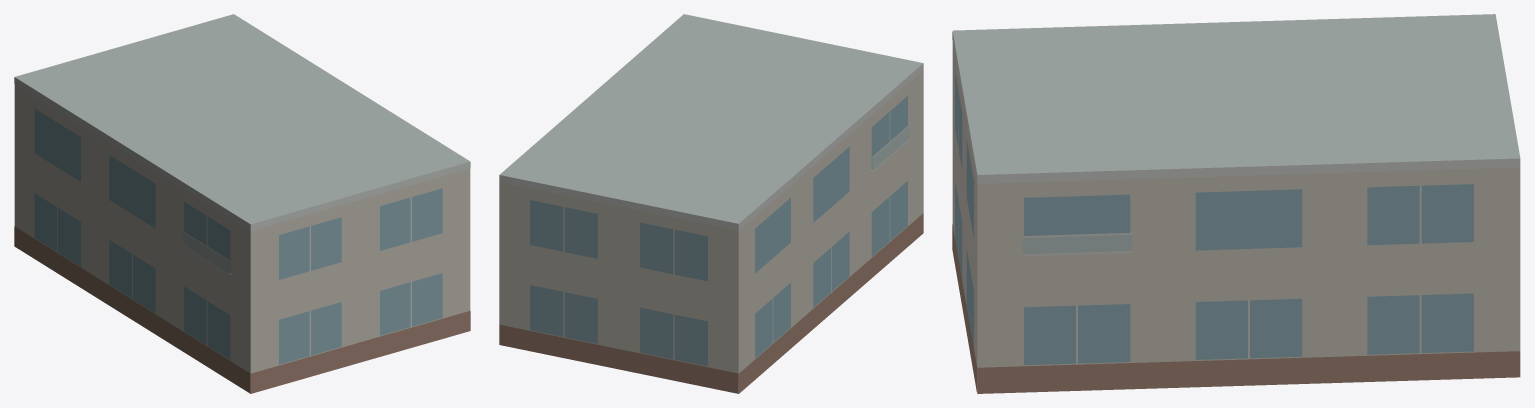
File: survey-upis-32701310.glb
3 views of the same model, side by side, from view 1: azimuth 30°, elevation 25°; view 2: azimuth 150°, elevation 25°; view 3: azimuth 270°, elevation 25° (orthographic). The views are drawn at different scales.
Parts seen in each view (by area): view 1: survey-upis-32701310.tmp; view 2: survey-upis-32701310.tmp; view 3: survey-upis-32701310.tmp.
Boxes of the visible parts, x1=… form: survey-upis-32701310.tmp: x1=14, y1=14, x2=470, y2=393; survey-upis-32701310.tmp: x1=499, y1=14, x2=923, y2=393; survey-upis-32701310.tmp: x1=952, y1=14, x2=1520, y2=393.
Size of the model in its own units: 9.63 by 6.1 by 14.36.
